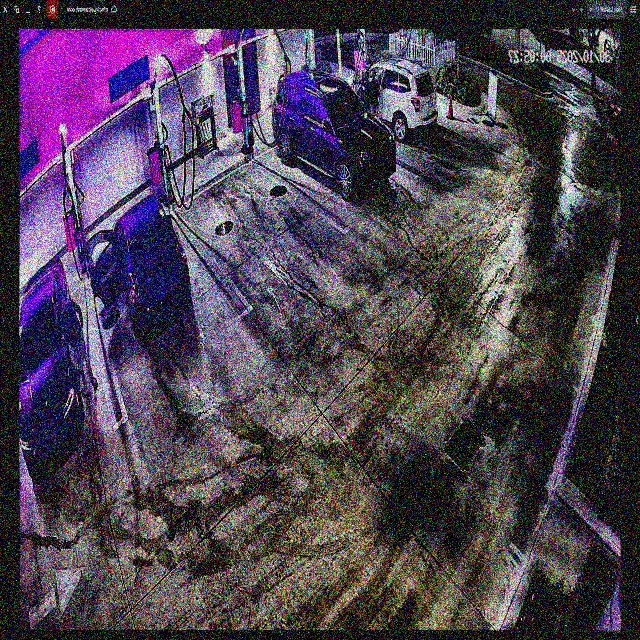Car: (273, 70, 396, 198), (85, 190, 191, 335), (343, 62, 437, 140)
